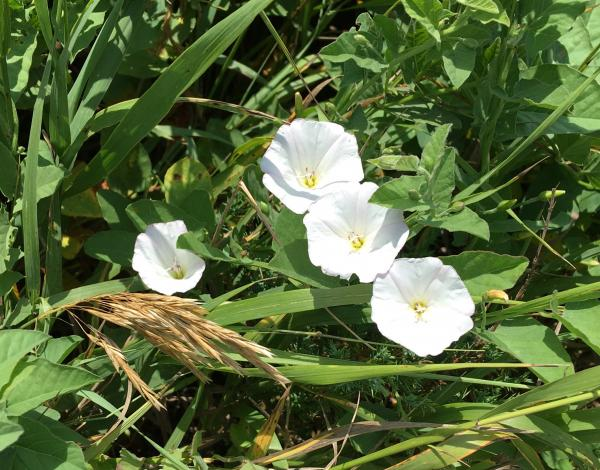bindweed: (303, 182, 409, 285), (368, 256, 475, 357), (257, 115, 365, 214), (132, 220, 207, 297)
